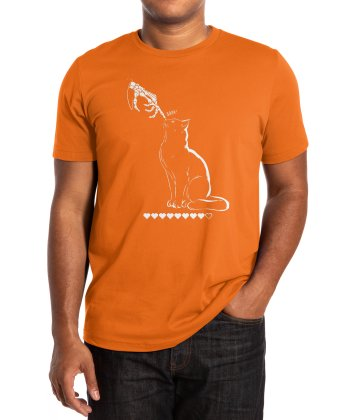design: (123, 77, 232, 222)
